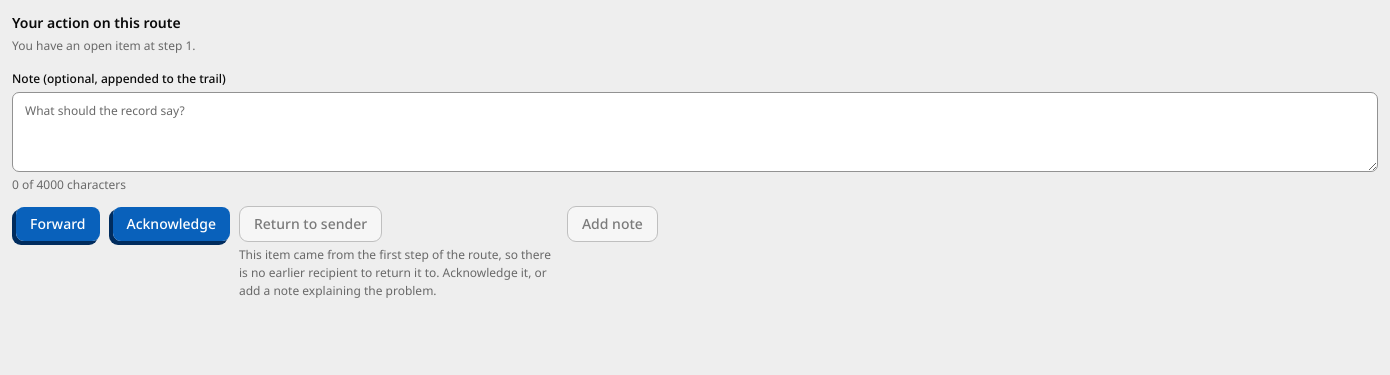
it: RouteActPanel › surfaces the engine’s refusal verbatim
The image size is (1390, 375).
Click the button "Forward". click: x=58, y=224
box: left=15, top=206, right=100, bottom=242
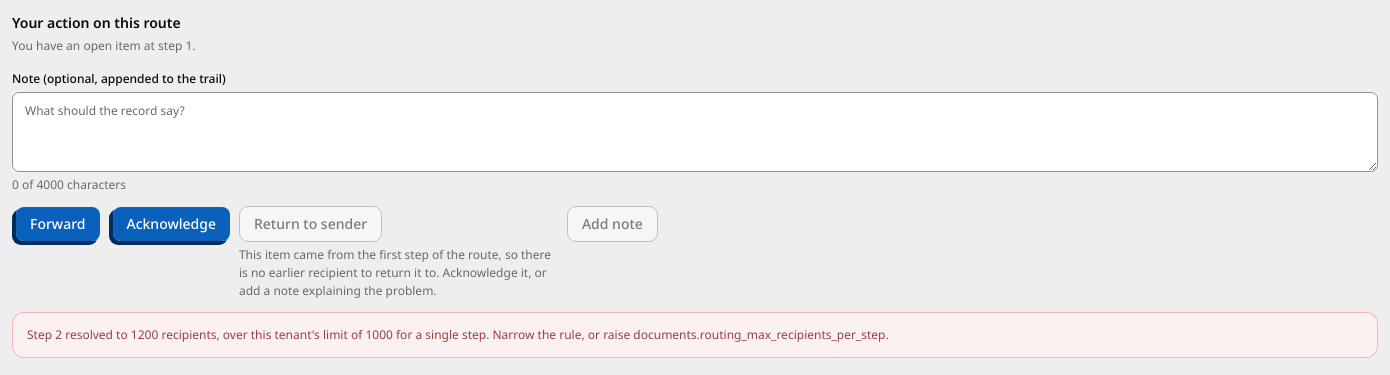
Expected: the text "raise documents.routing_max_recipients_per_step" is shown, left=27, top=326, right=889, bottom=343
